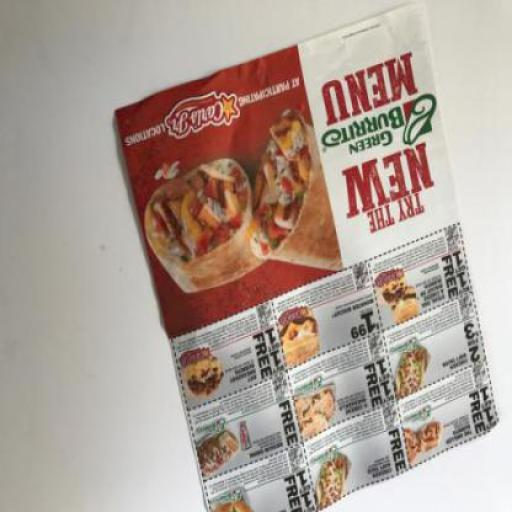paper: (114, 5, 501, 511)
